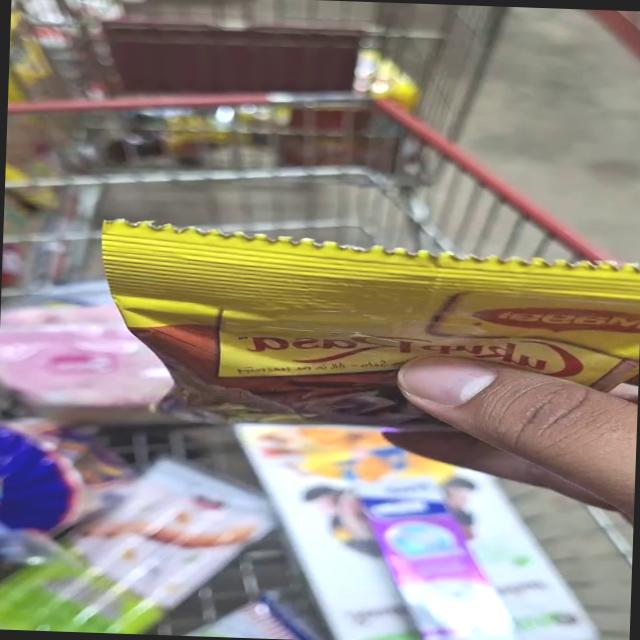Maggi Cukup Rasa: (117, 230, 640, 442)
Ubat Gigi: (347, 492, 502, 640)
